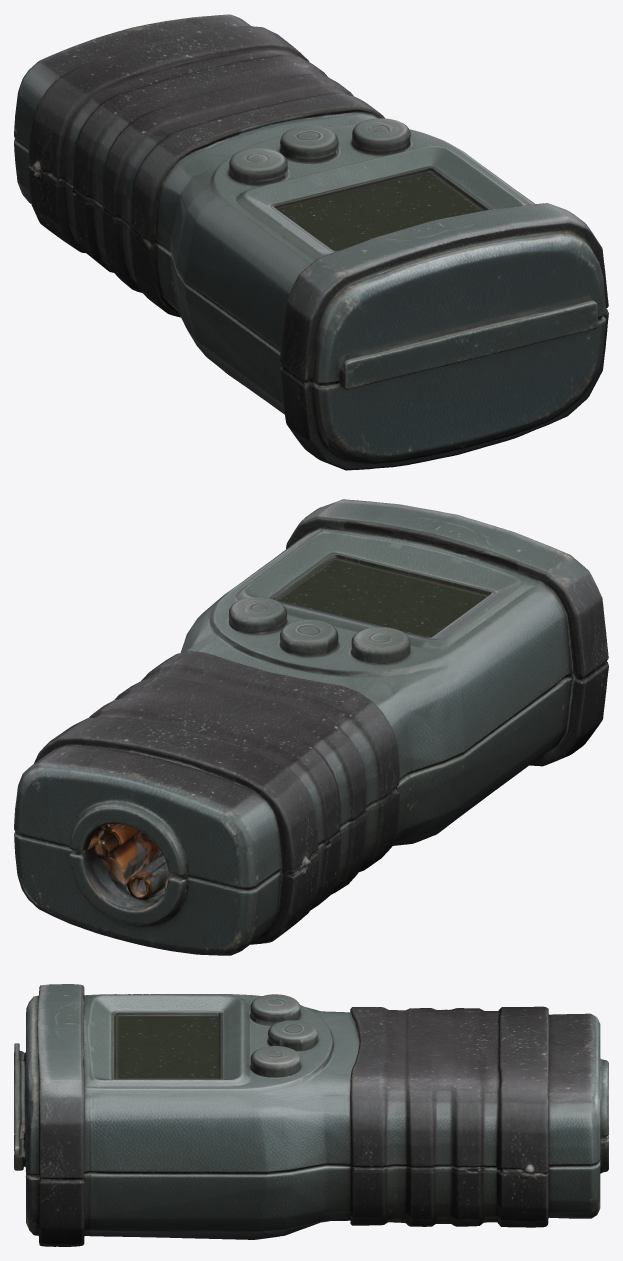
File: HandMeter.glb
The picture shows the model from 3 angles, top to bottom: view 1: azimuth 30°, elevation 25°; view 2: azimuth 150°, elevation 25°; view 3: azimuth 270°, elevation 25°; orthographic projection. The views are drawn at different scales.
Visible parts, largest first — view 1: texture_mapping; view 2: texture_mapping; view 3: texture_mapping.
Boxes of the visible parts, <box> form: texture_mapping: <box>14,14,608,470</box>; texture_mapping: <box>14,499,608,955</box>; texture_mapping: <box>14,984,608,1246</box>.
Bounding box in the file's own units: 0.5052 × 0.3421 × 0.9928.
1 material, 1 textured.
